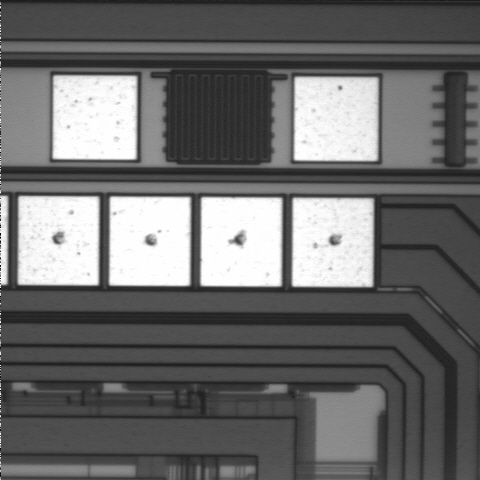pad: (109, 197, 191, 286), (200, 197, 282, 286), (18, 196, 99, 285), (292, 198, 373, 287), (53, 76, 137, 160), (294, 77, 378, 161)
